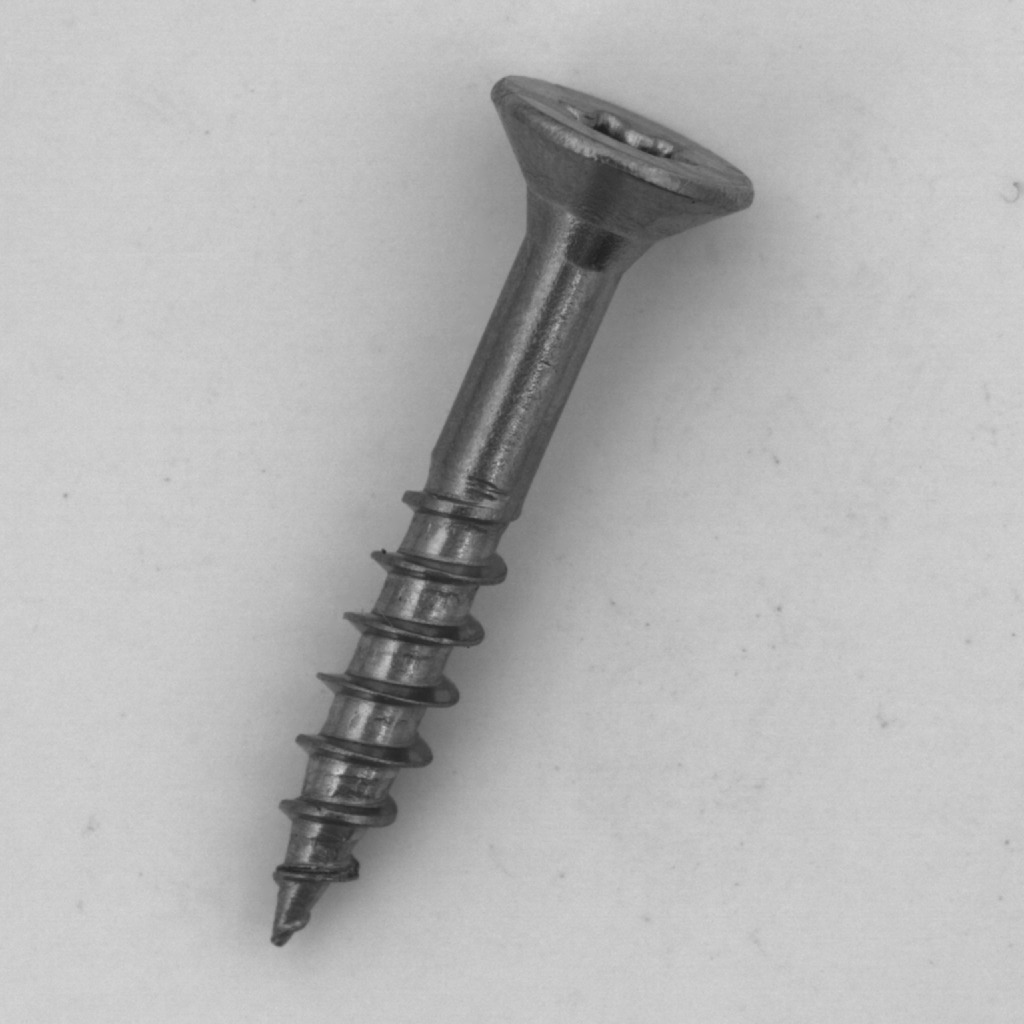good: (245, 58, 777, 969)
